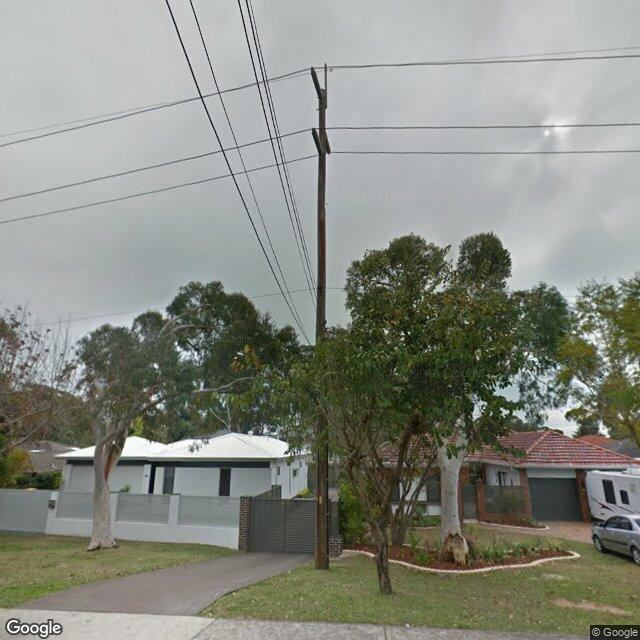HV-transmission: (310, 64, 332, 154)
timber-pole: (318, 91, 328, 571)
